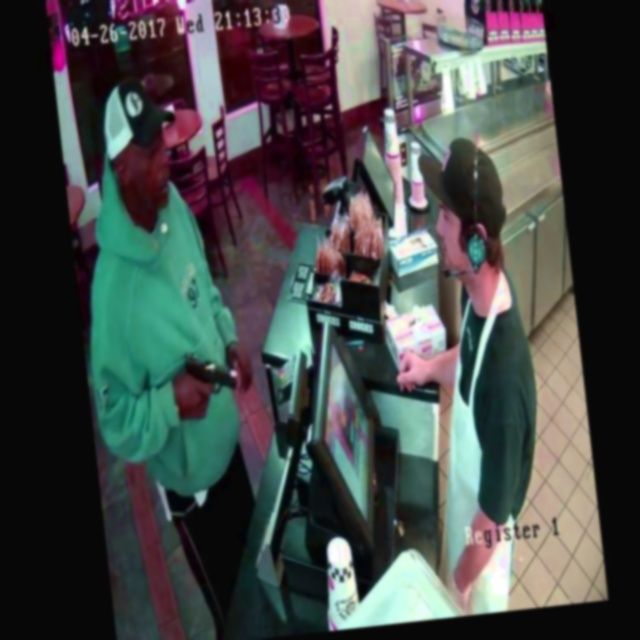gun: (168, 334, 248, 411)
